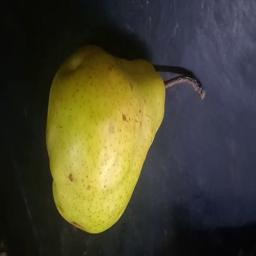Pear Semifresh: (40, 41, 213, 238)
